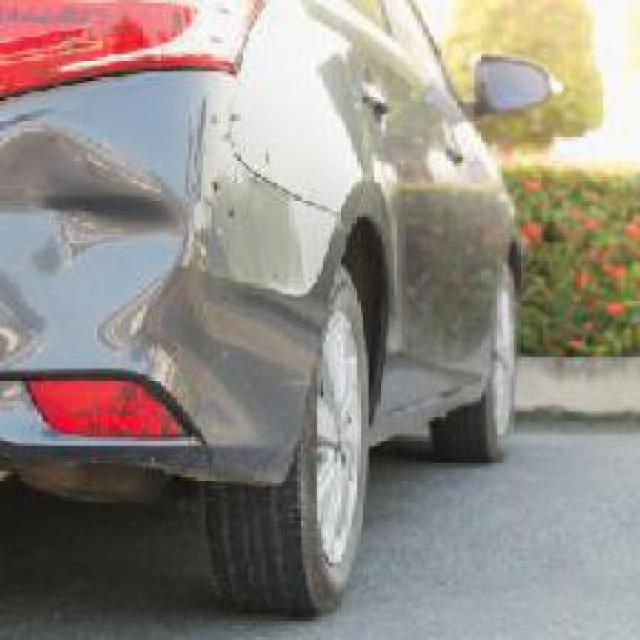dent-or-scratch: (2, 115, 184, 348)
